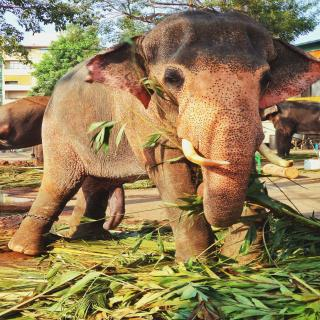Elephant: (1, 6, 320, 273)
